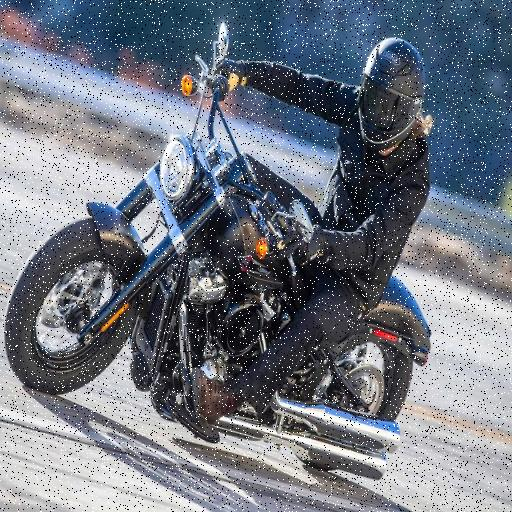Helmet: (340, 38, 438, 168)
Motor: (28, 212, 464, 474)
